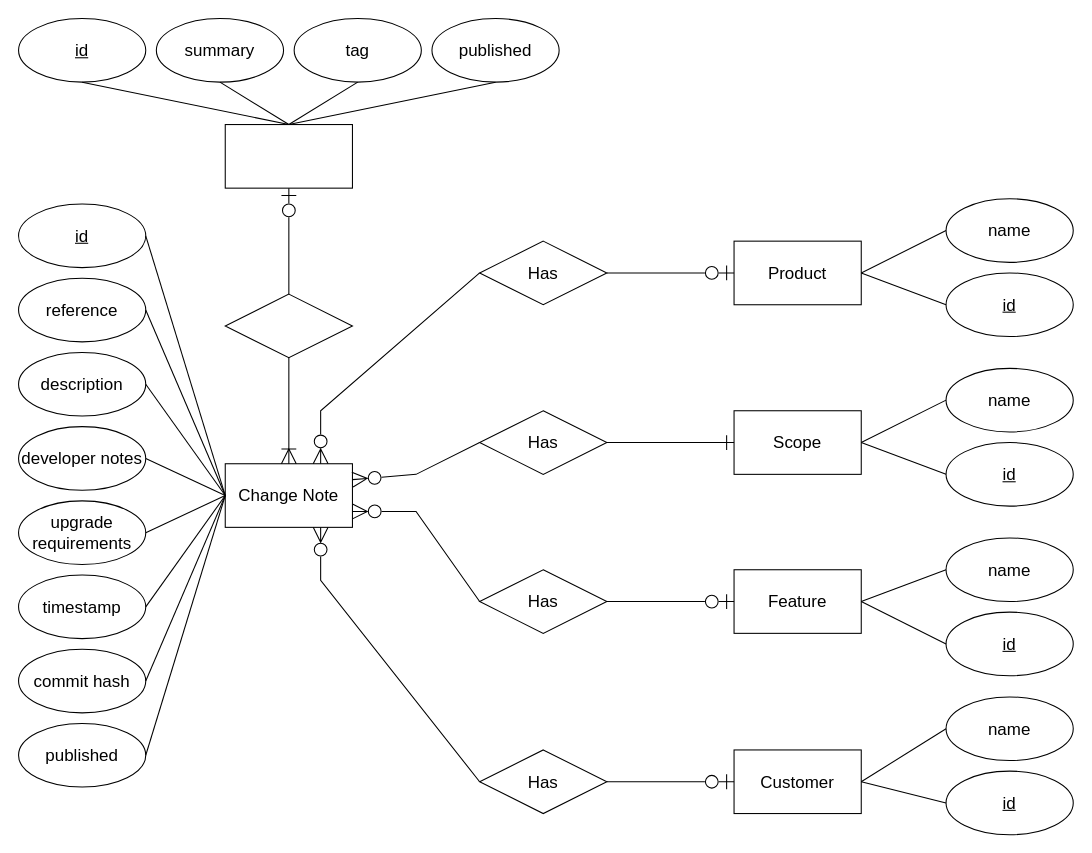
Some shapes in this 1092 by 853 pixel diagram are drawn without their labels. The centre of each missing label's shape, as x and y in pixels:
Contains: point (288, 325)
Release Note: point (288, 155)
